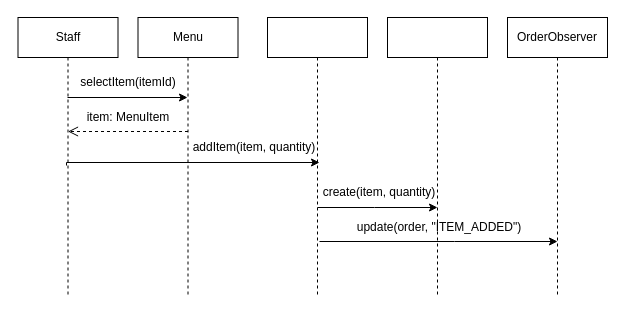
Image size: 625x315. Some labels were removed from this diagram. The shapes that lost their labels are listed below. From the top down, each one's box as (x1, y1, x2, y2) in pixels, then its label:
(266, 16, 368, 298): Order
(386, 16, 488, 298): OrderLine
